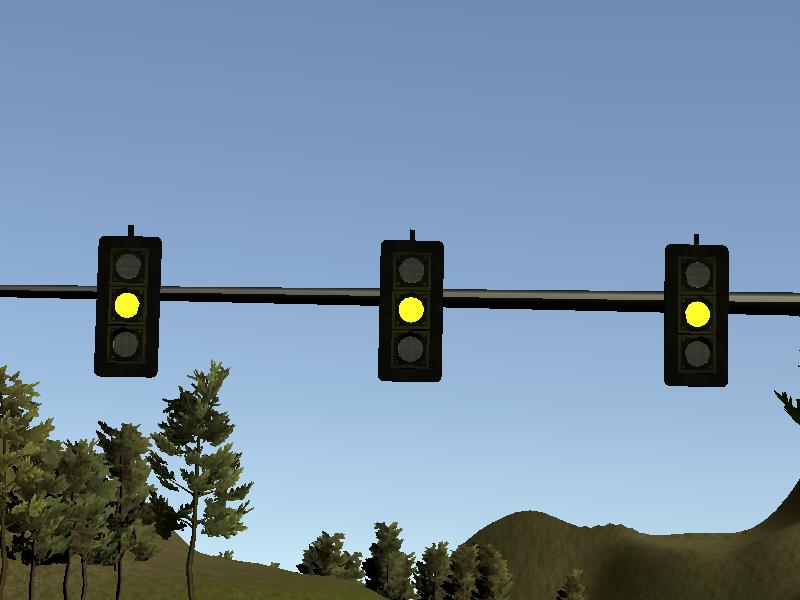yellow: (92, 234, 157, 377), (379, 239, 444, 382), (663, 244, 728, 387)
